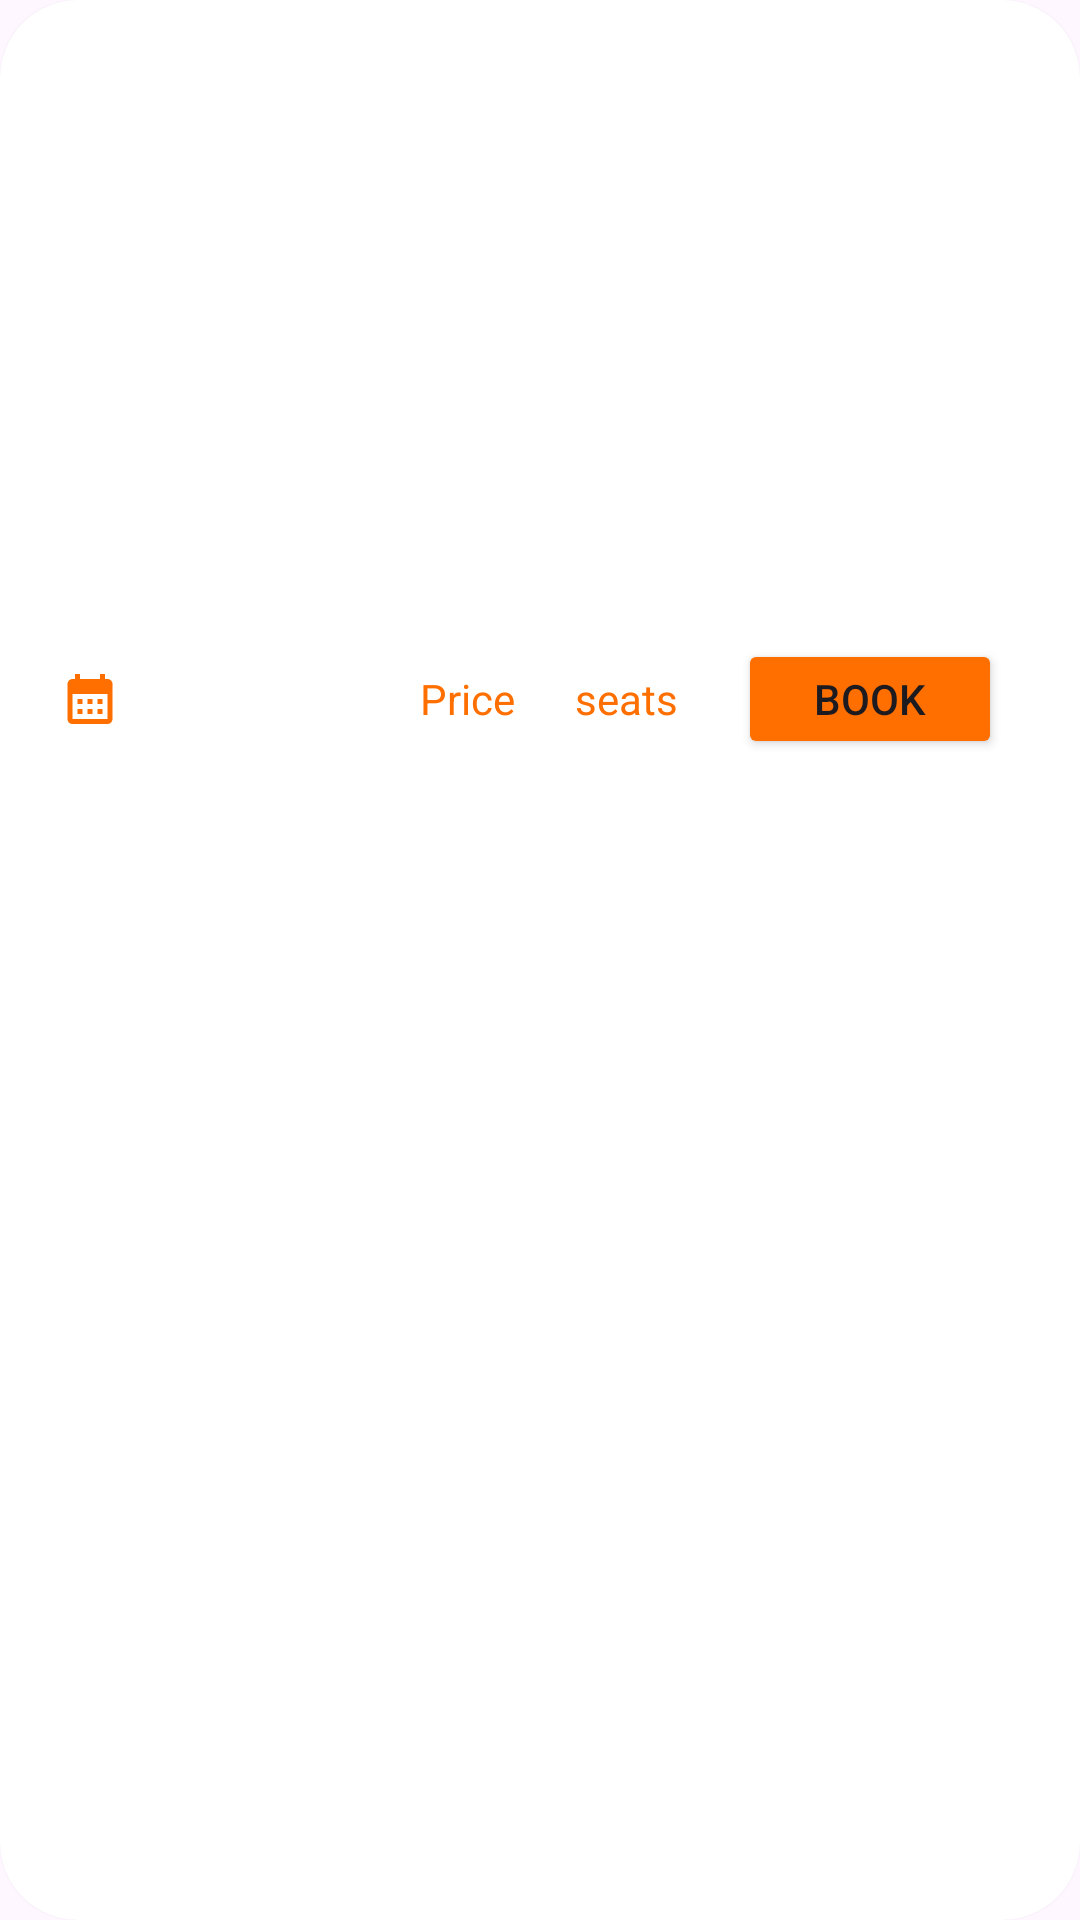

Named icons in this screenshot (1080×1920) and their centers, (x=x, y=y):
calendar month: (x=90, y=699)
